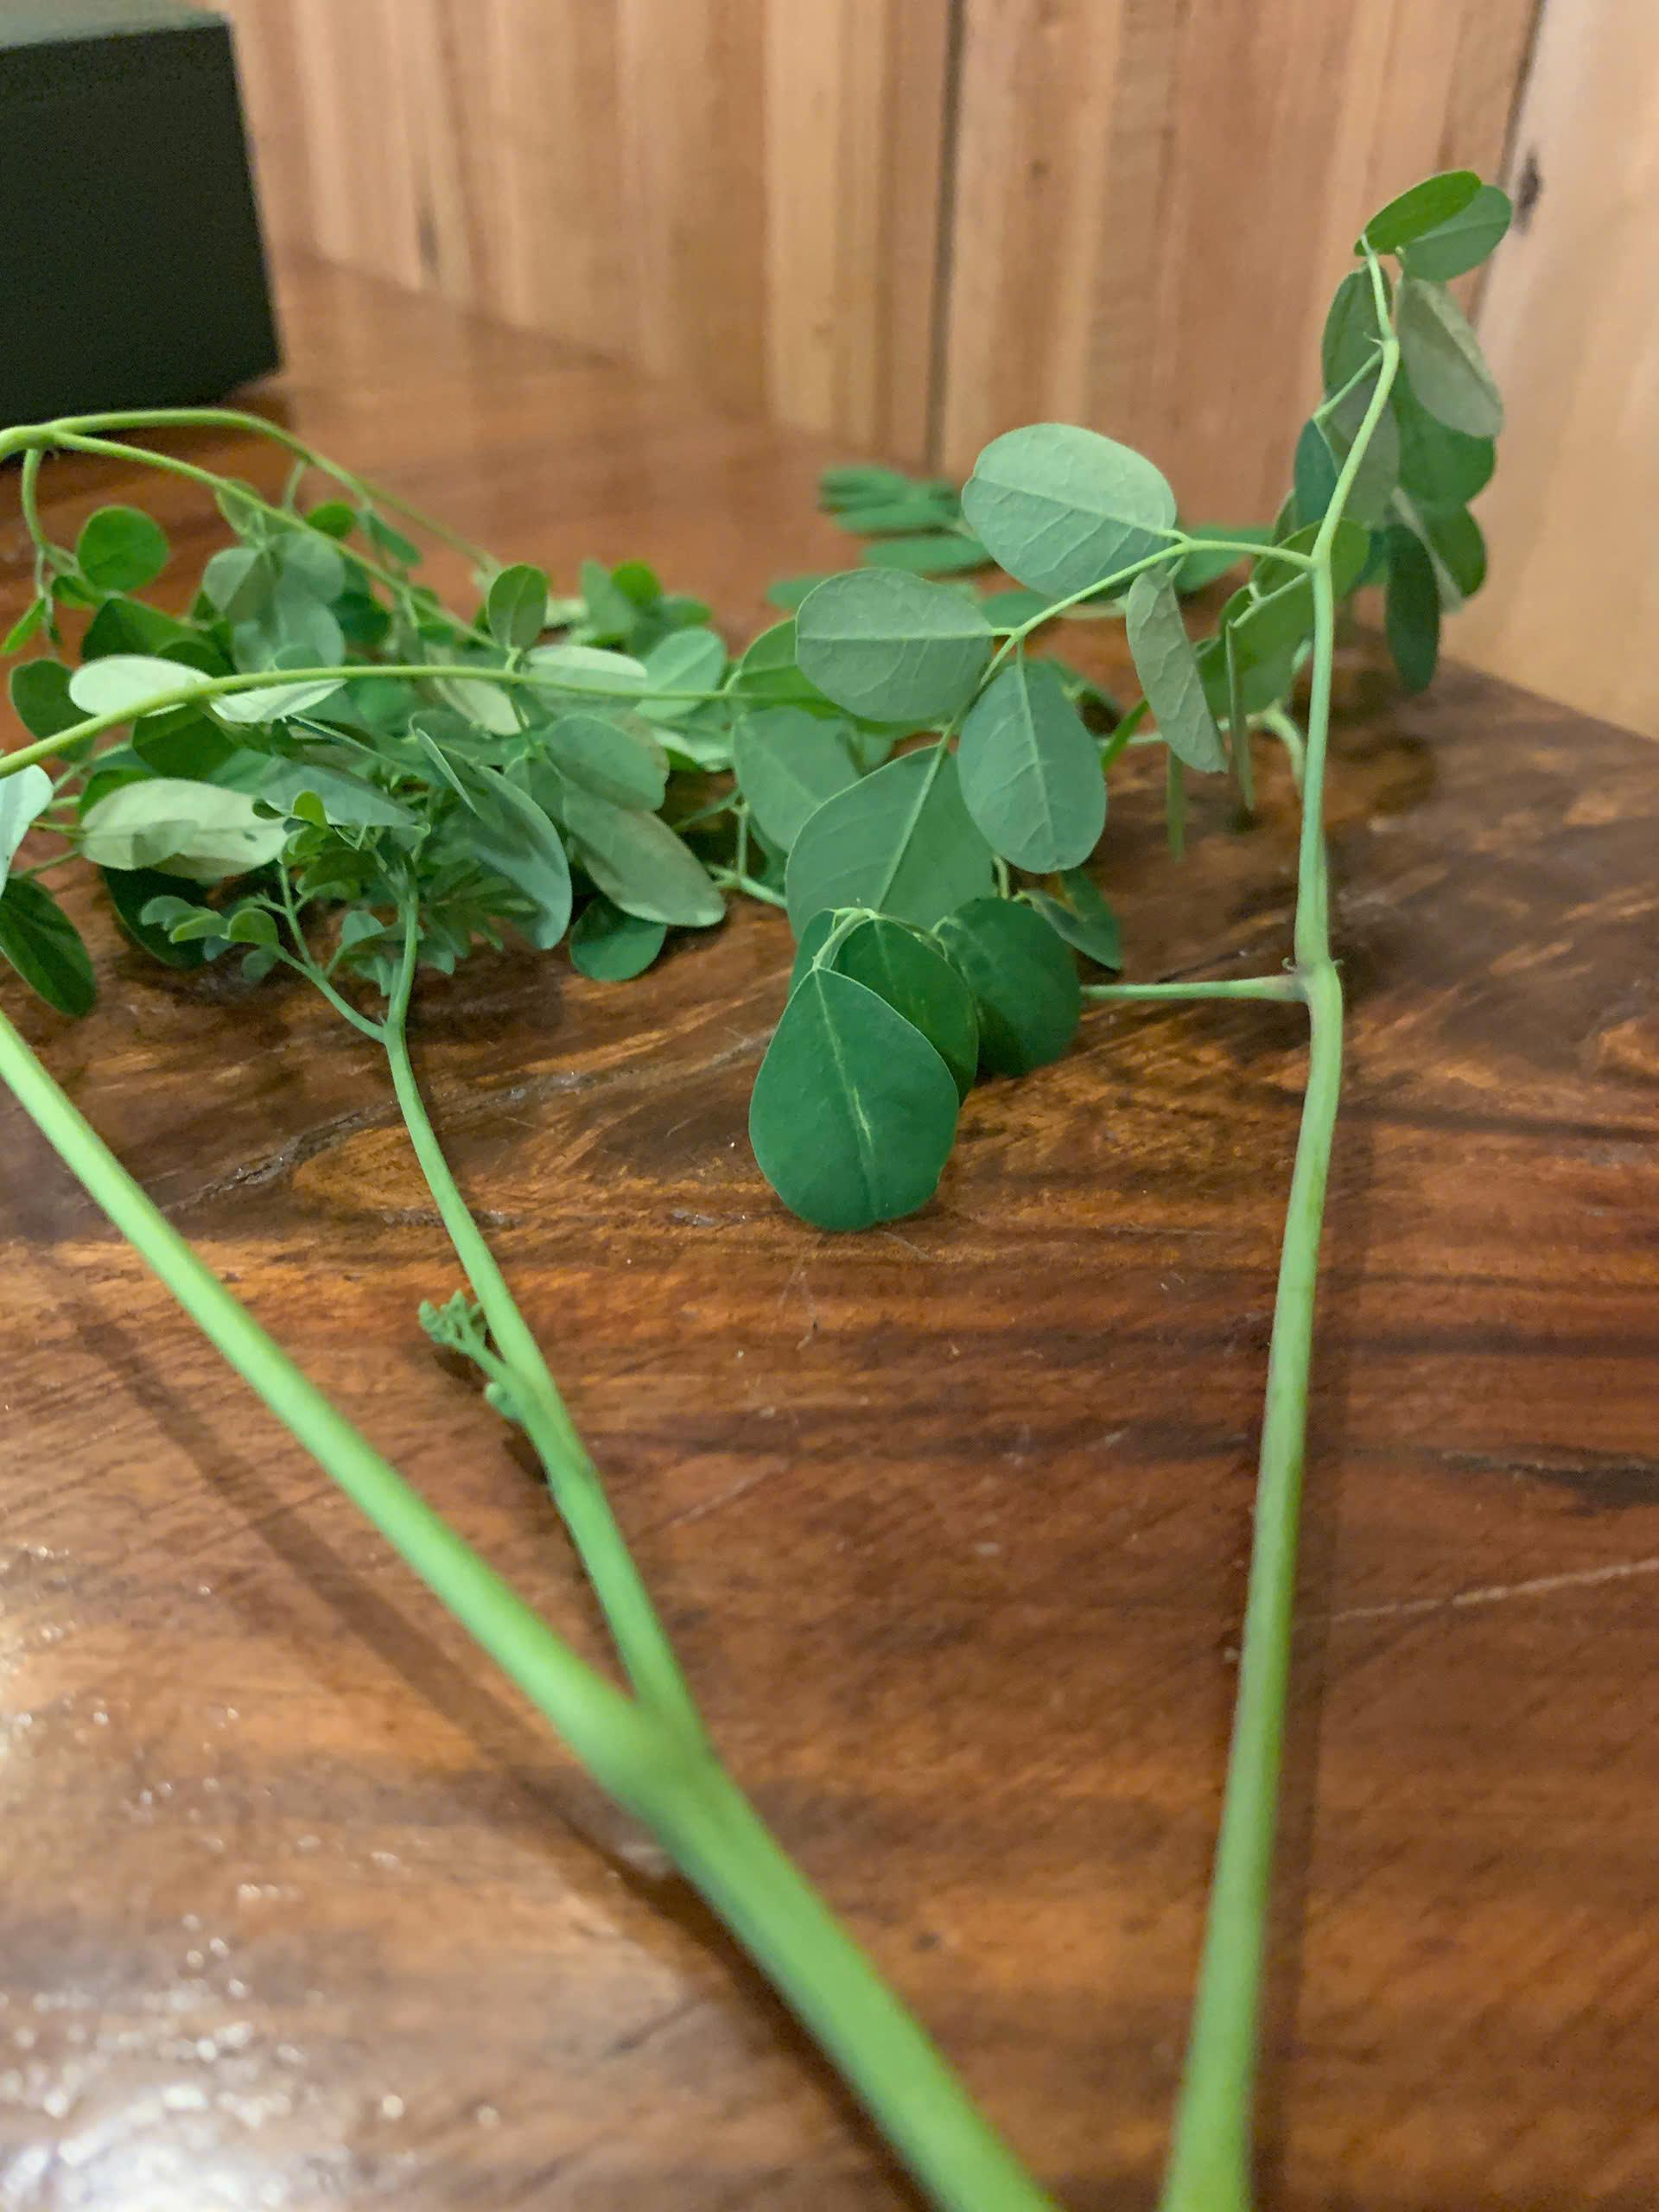Huu co: (17, 411, 1331, 1825)
